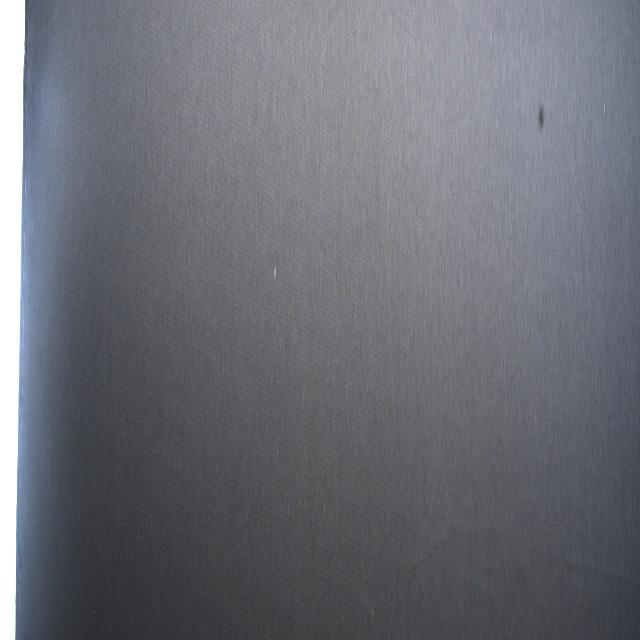crease: (406, 512, 512, 598), (88, 442, 185, 480), (558, 552, 640, 596)
whiteDefect: (272, 251, 278, 282)
